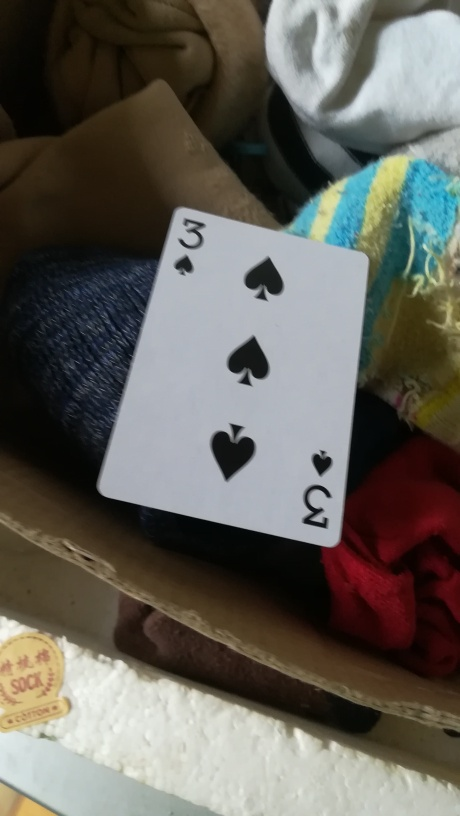ht 3: (95, 206, 372, 549)
